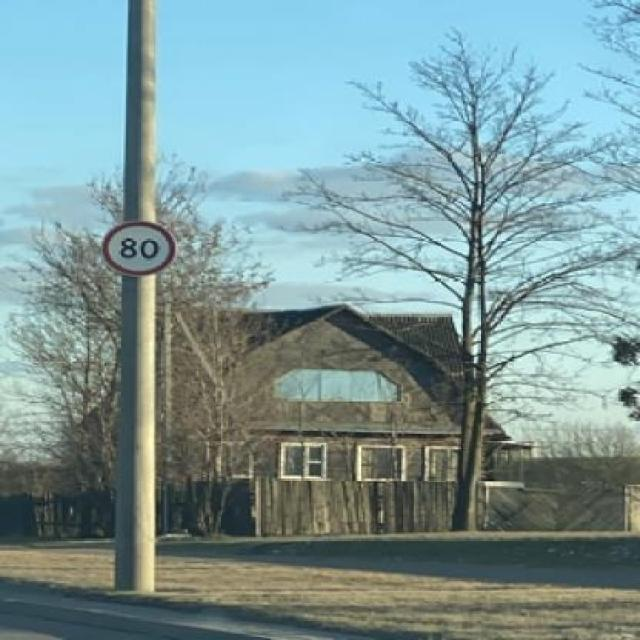forb_speed_over_80: (104, 220, 173, 277)
